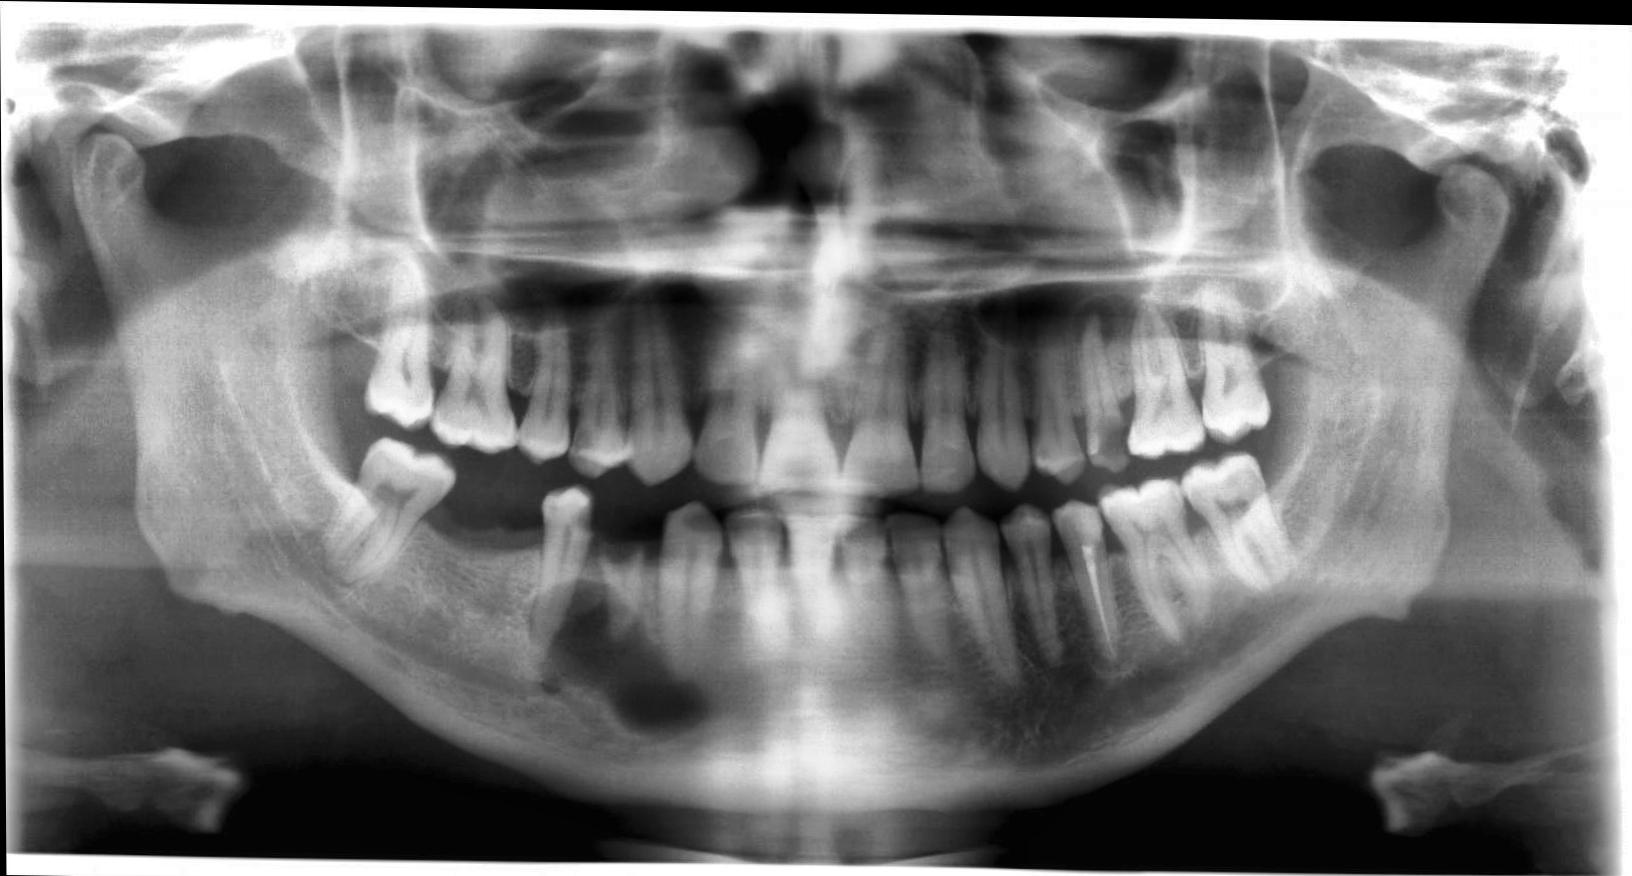radikuler: (522, 575, 709, 748), (1071, 289, 1116, 350)
